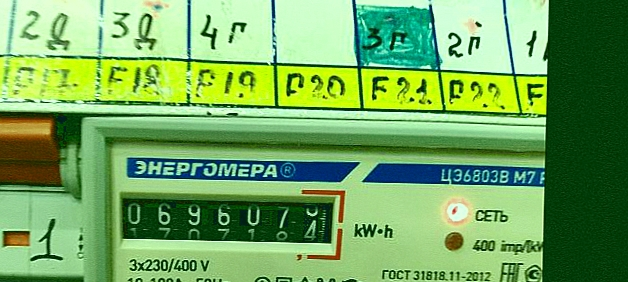0: (124, 199, 141, 223), (244, 200, 259, 225)
4: (300, 216, 317, 240)
6: (154, 199, 171, 224), (214, 200, 231, 224)
7: (274, 202, 289, 229)
9: (184, 200, 200, 224)
screen: (104, 176, 348, 256)
